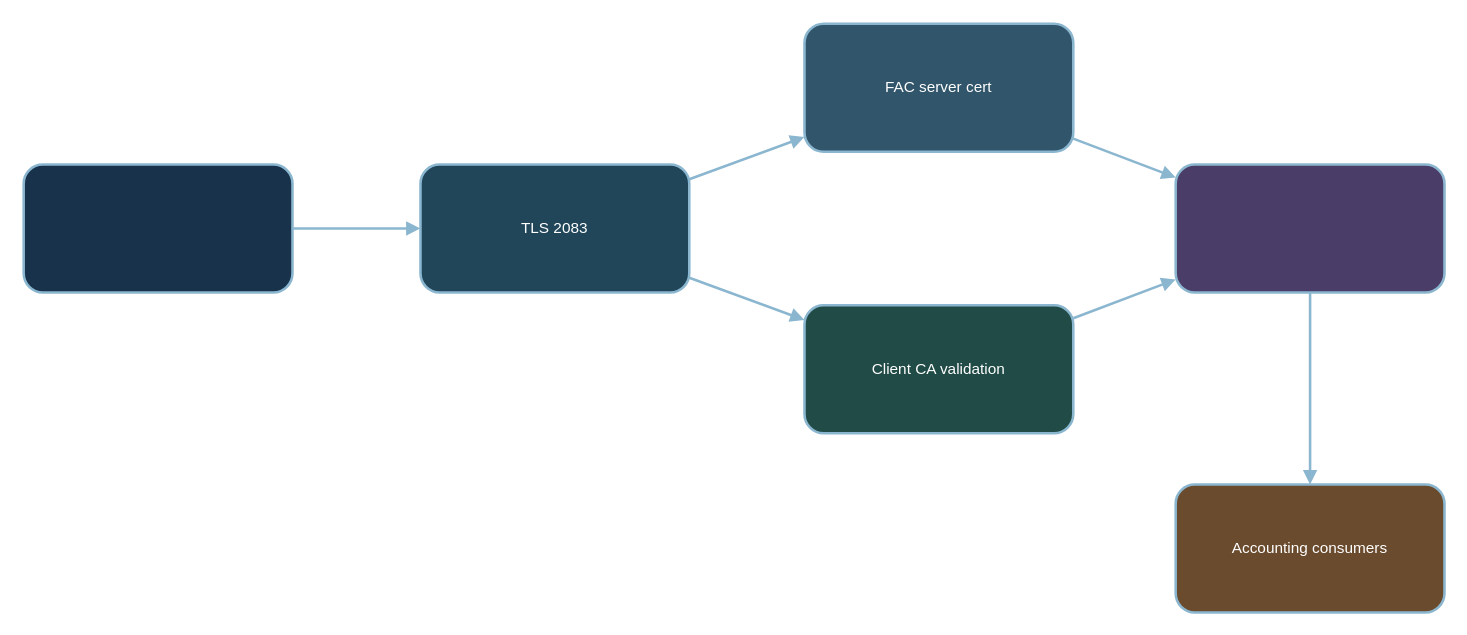
Some shapes in this 1467 by 635 pixel diagram are drawn without their labels. Here are the shapes that lost their labels. From the top down, the centre of each, then its label:
At point (157, 228): "RADSec client".
At point (1309, 228): "RADIUS daemon".
